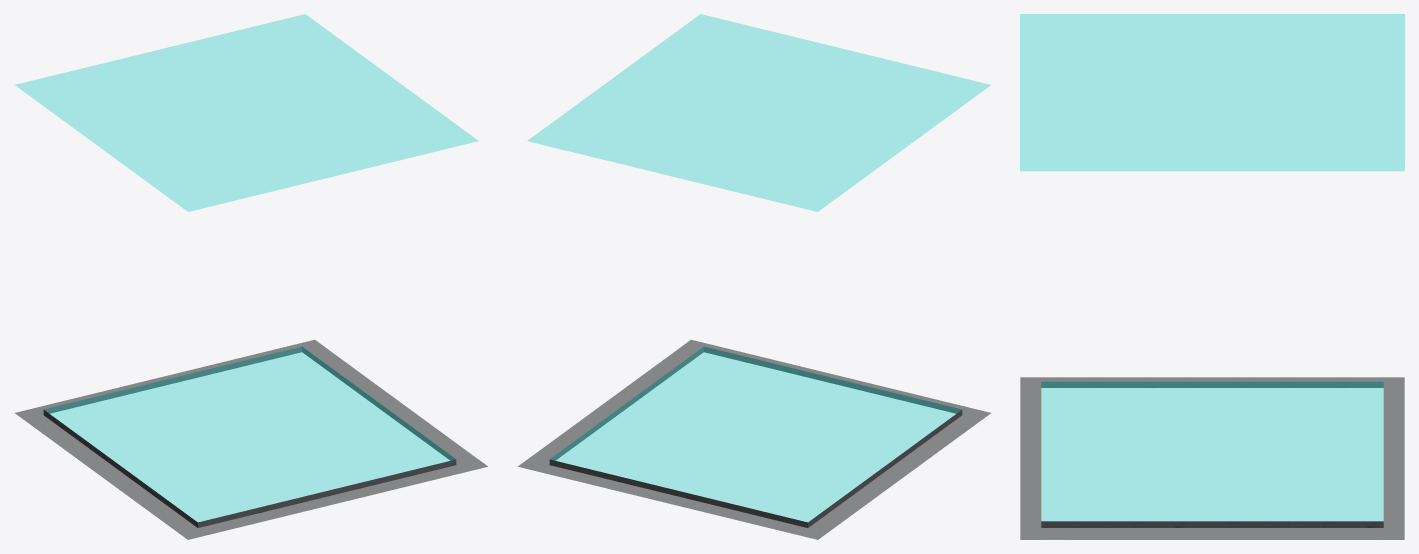
The model's file is G_Env_Arch_CeilingTile_02_Glass.fbx.
3 views of the same model, side by side, from view 1: azimuth 30°, elevation 25°; view 2: azimuth 150°, elevation 25°; view 3: azimuth 270°, elevation 25° (orthographic). The views are drawn at different scales.
Parts seen in each view (by area): view 1: G_Env_Arch_CeilingTile_02_Glass; view 2: G_Env_Arch_CeilingTile_02_Glass; view 3: G_Env_Arch_CeilingTile_02_Glass.
Part boxes in pixels (x1,y1,x2,y2): G_Env_Arch_CeilingTile_02_Glass: (15,14,487,539); G_Env_Arch_CeilingTile_02_Glass: (518,14,990,539); G_Env_Arch_CeilingTile_02_Glass: (1020,14,1404,539).
Bounding box in the file's own units: 500 × 521 × 500.
